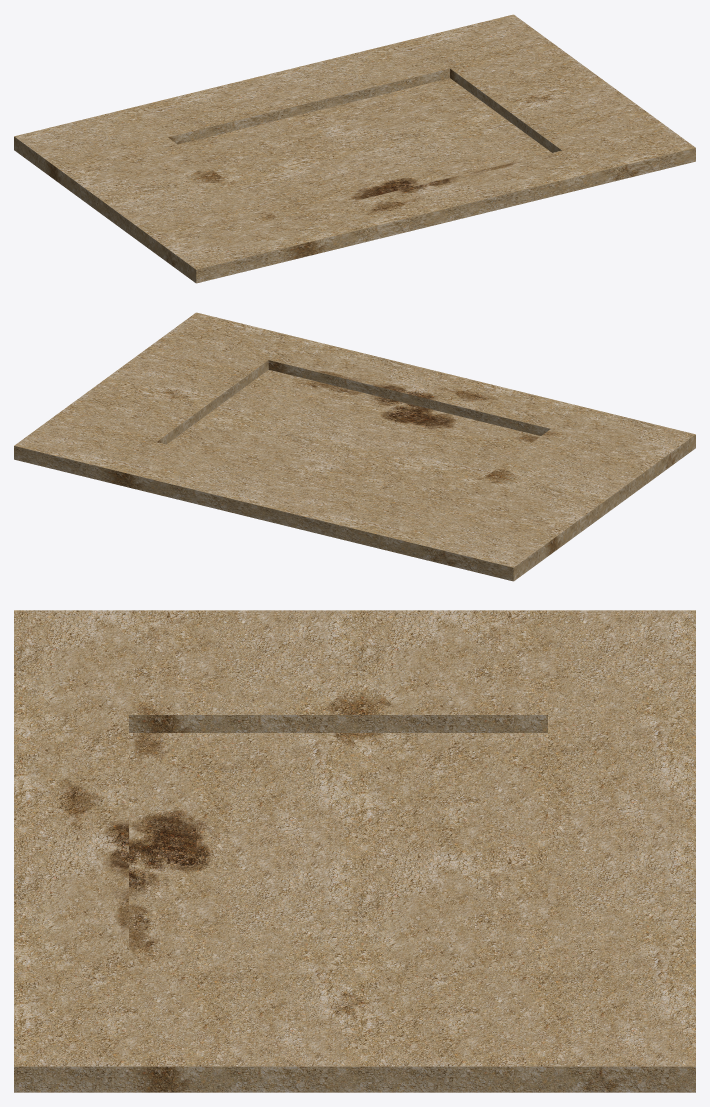
File: ground1.obj
3 views of the same model, one above another, from view 1: azimuth 30°, elevation 25°; view 2: azimuth 150°, elevation 25°; view 3: azimuth 270°, elevation 25° (orthographic). The views are drawn at different scales.
Visible parts, largest first — view 1: Box33; view 2: Box33; view 3: Box33.
Part boxes in pixels (x1,y1,x2,y2): Box33: (14, 14, 695, 283); Box33: (14, 312, 695, 581); Box33: (14, 610, 695, 1092).
Size of the model in its own units: 16.56 by 0.4357 by 10.46.
1 material, 1 textured.
